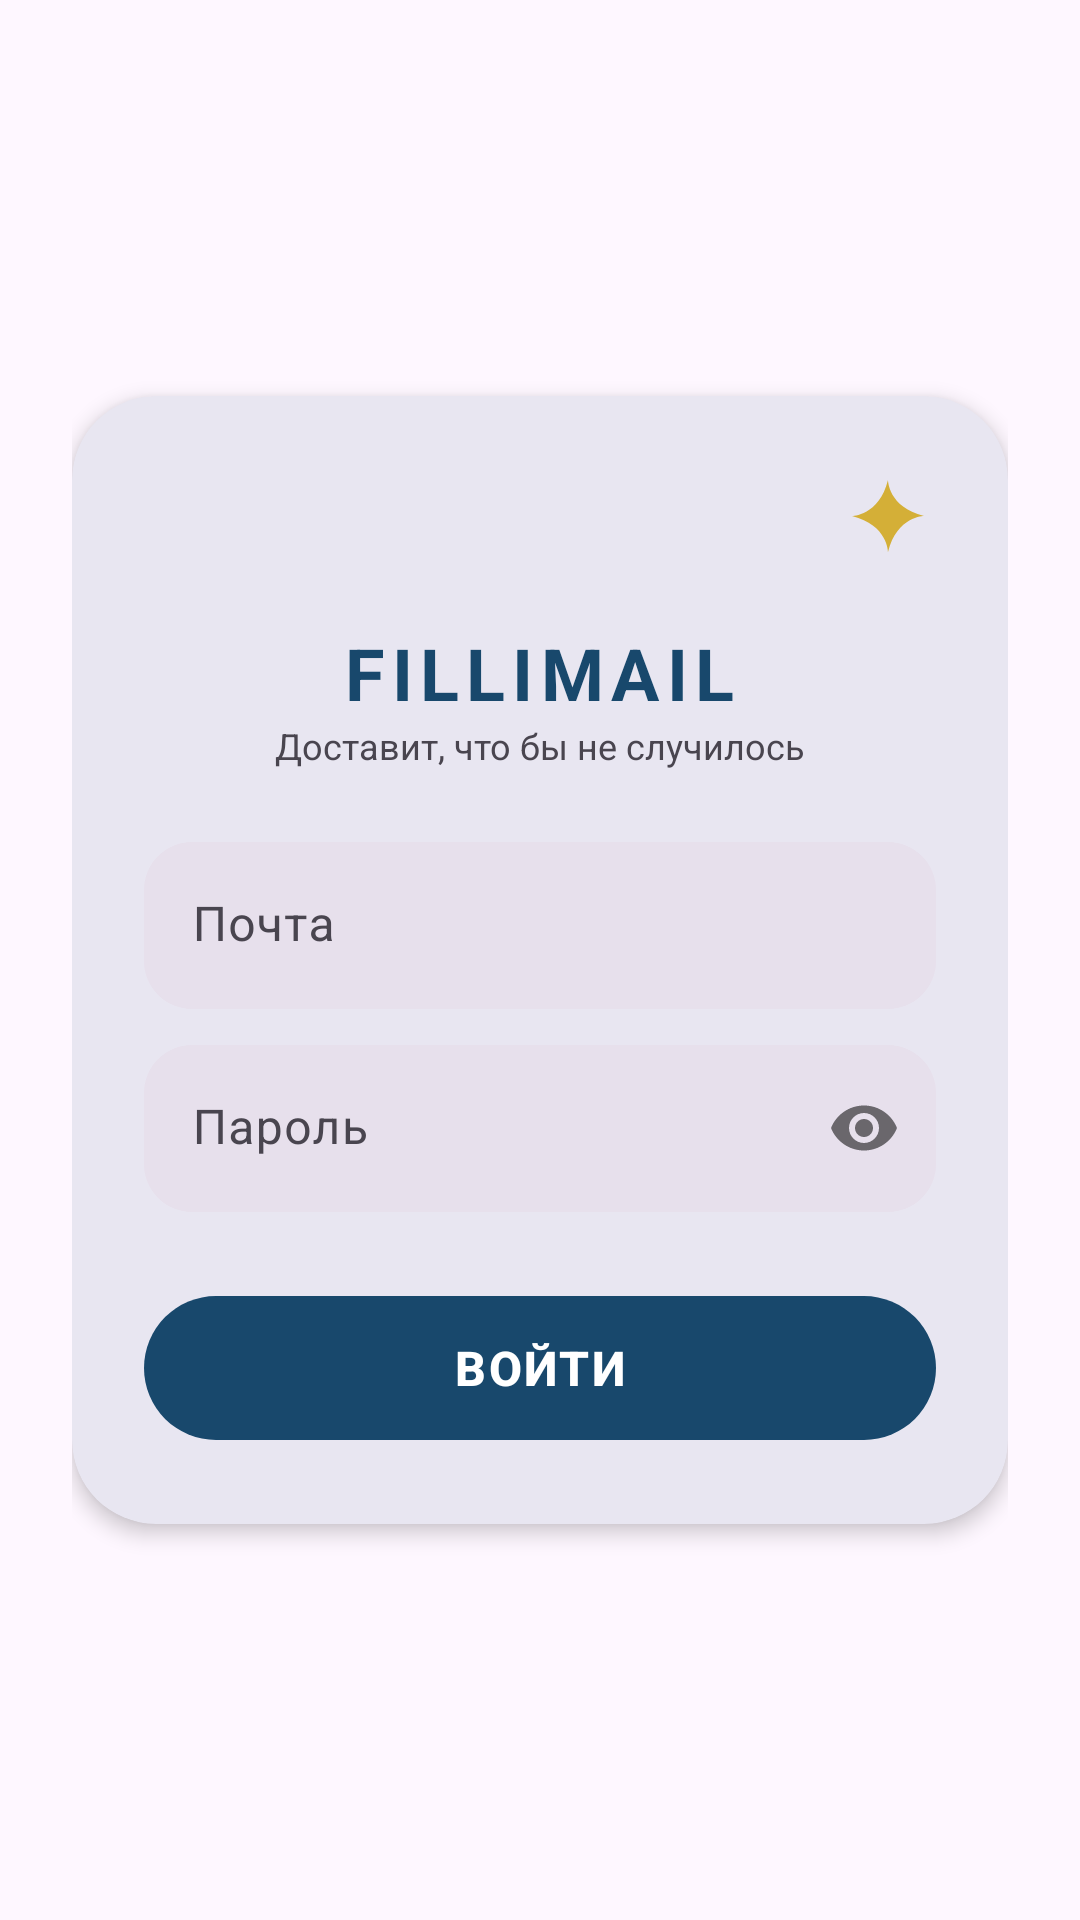

Icons on this 1080px x 1920px Android screen, each with the point to tap as point (x, y):
star: point (888, 516)
